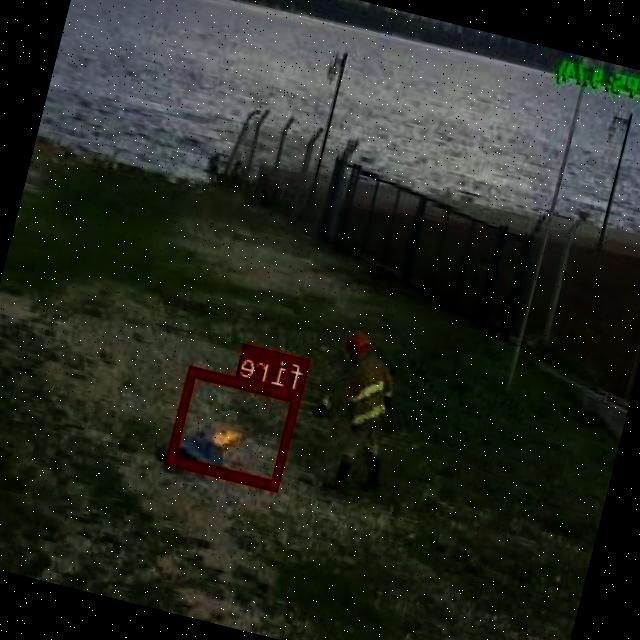fire: (168, 363, 304, 489)
